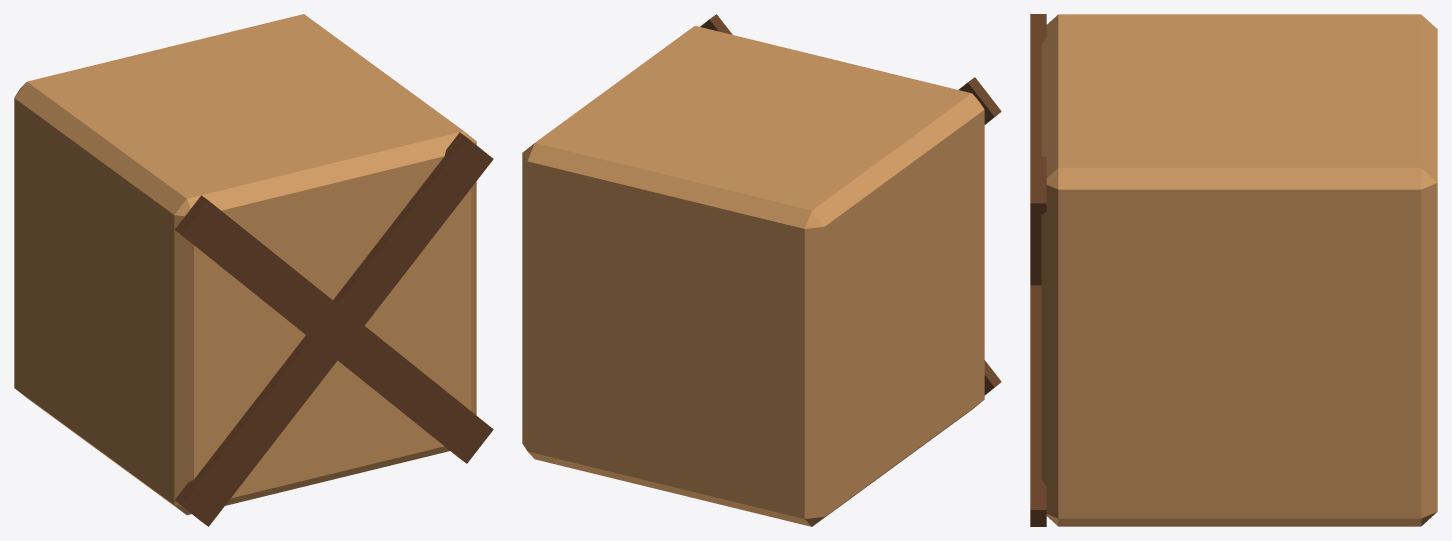
File: Crate.fbx
The picture shows the model from 3 angles, left to right: view 1: azimuth 30°, elevation 25°; view 2: azimuth 150°, elevation 25°; view 3: azimuth 270°, elevation 25°; orthographic projection. The views are drawn at different scales.
Visible parts, largest first — view 1: Crate; view 2: Crate; view 3: Crate.
Part boxes in pixels (x1,y1,x2,y2): Crate: (14,14,493,526); Crate: (522,14,1001,526); Crate: (1030,14,1437,526).
Bounding box in the file's own units: 2.47 × 2.47 × 2.47.
Materials: 1 (1 with a texture image).
